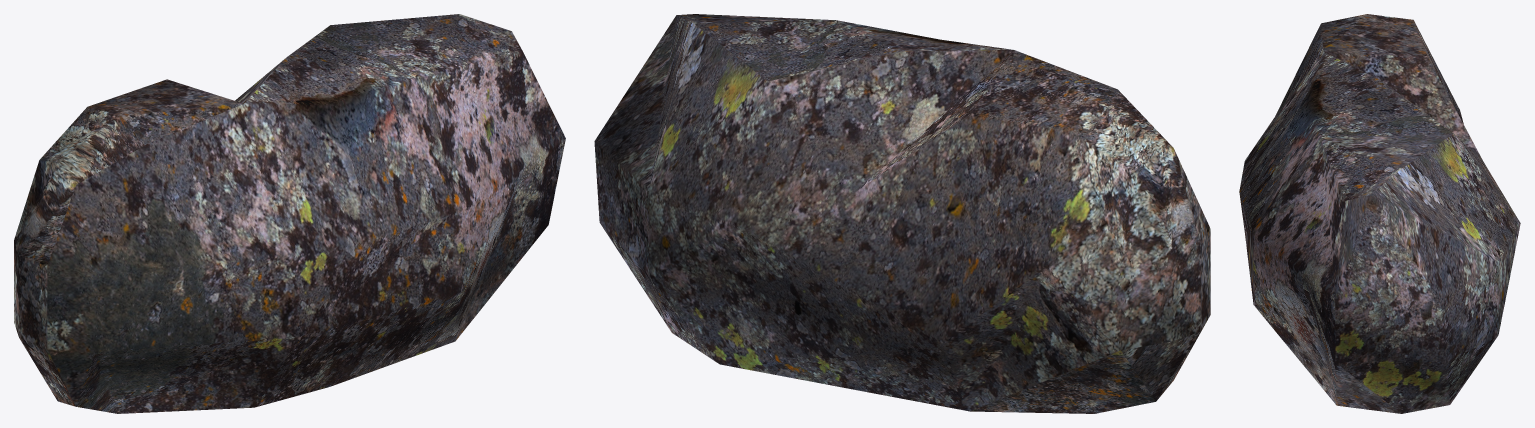
The model's file is rock.FBX.
3 views of the same model, side by side, from view 1: azimuth 30°, elevation 25°; view 2: azimuth 150°, elevation 25°; view 3: azimuth 270°, elevation 25° (orthographic). The views are drawn at different scales.
Parts seen in each view (by area): view 1: rock; view 2: rock; view 3: rock.
Boxes of the visible parts, x1,y1,x2,y2 form: rock: [14, 14, 565, 413]; rock: [594, 14, 1210, 413]; rock: [1239, 14, 1520, 413].
Size of the model in its own units: 169 by 96.14 by 87.71.
1 material, 1 textured.
